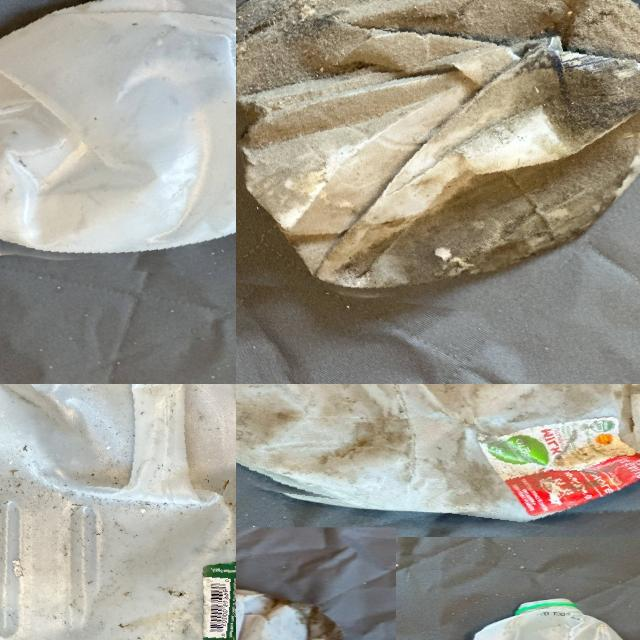milk-jug: (236, 0, 640, 319), (0, 0, 236, 282), (0, 384, 236, 640), (236, 384, 640, 523), (458, 594, 640, 640)
